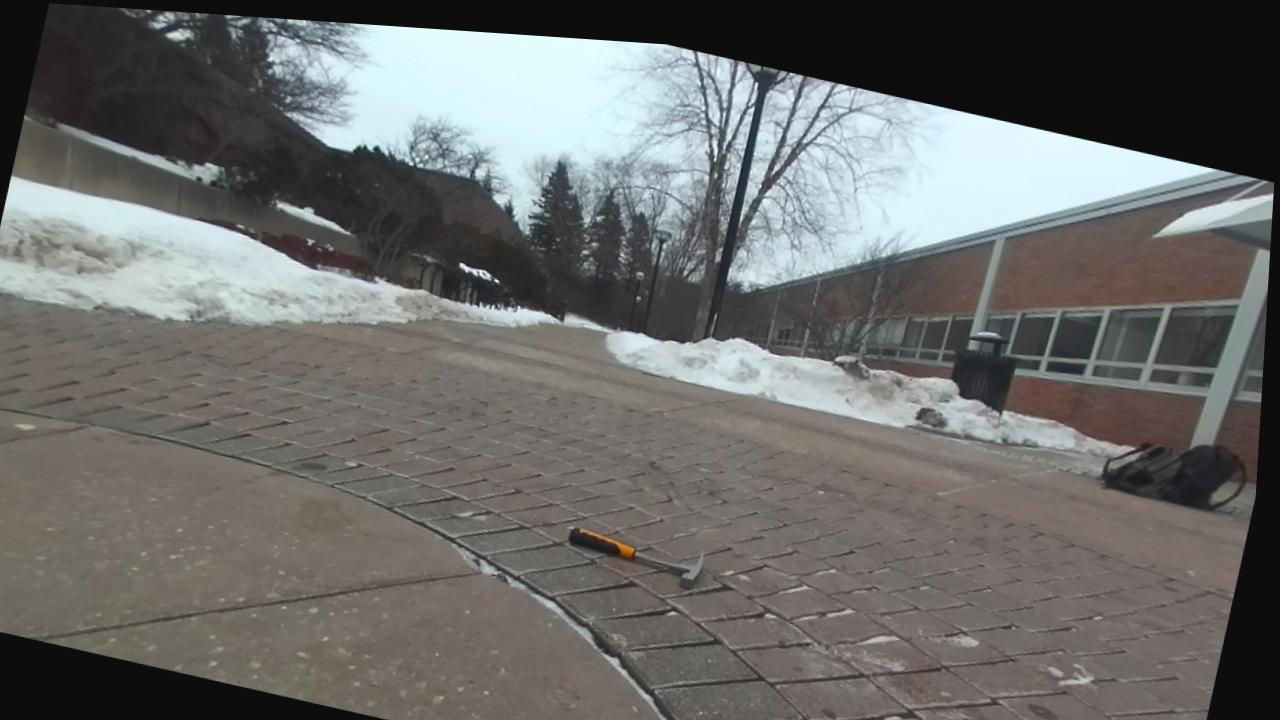pick: (568, 527, 702, 587)
